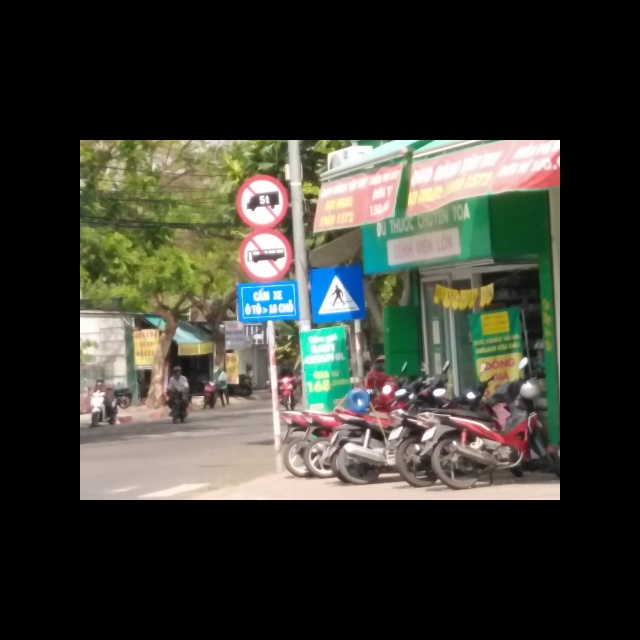Cấm xe tải: (236, 175, 290, 228)
Cấm xe xe khách: (239, 228, 293, 283)
Đường dành cho người đi bộ: (308, 265, 370, 323)
